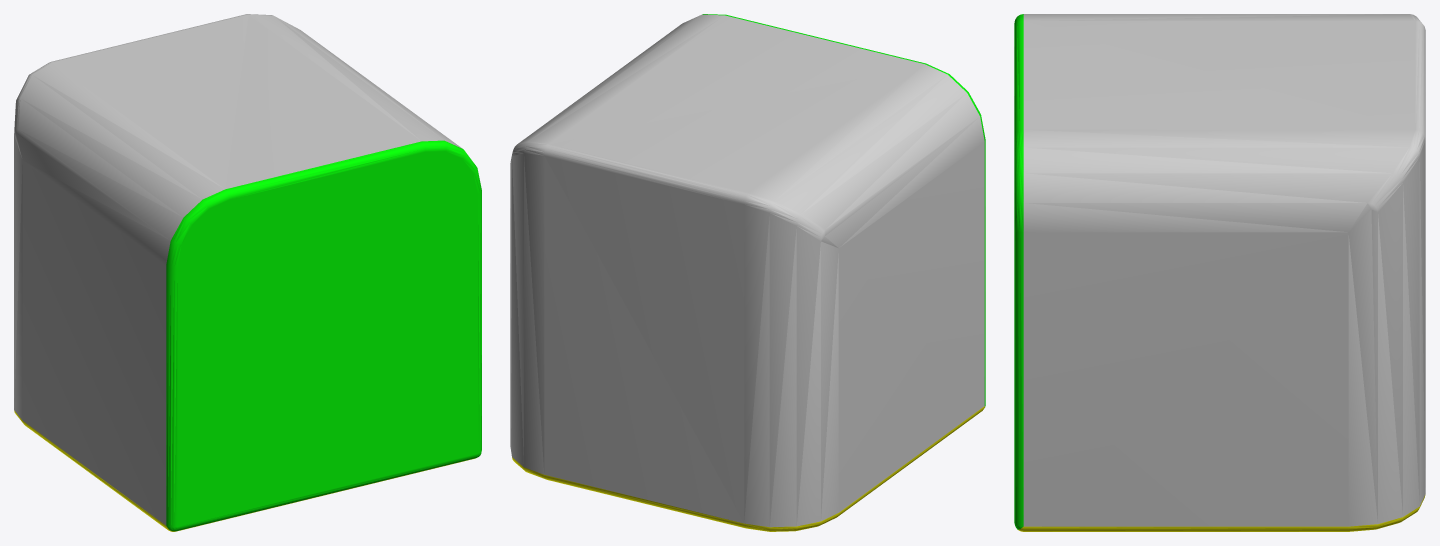
3 views of the same model, side by side, from view 1: azimuth 30°, elevation 25°; view 2: azimuth 150°, elevation 25°; view 3: azimuth 270°, elevation 25° (orthographic). The views are drawn at different scales.
Visible parts, largest first — view 1: edge_DF; view 2: edge_DF; view 3: edge_DF.
Part boxes in pixels (<box>): edge_DF: <box>14,14,481,531</box>; edge_DF: <box>510,14,985,531</box>; edge_DF: <box>1014,14,1425,531</box>.
Size of the model in its own units: 0.2003 by 0.2003 by 0.2003.
1 material, 1 textured.
